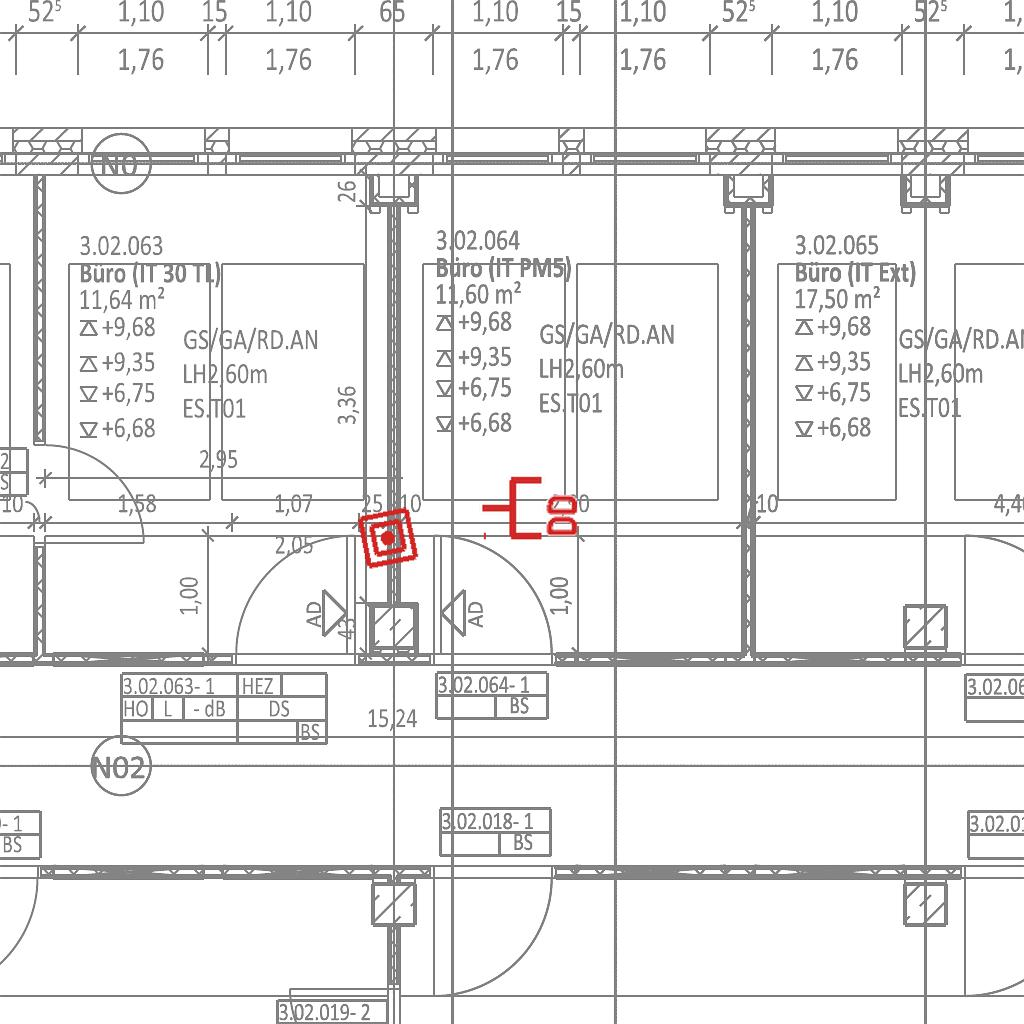Datenanschluss_zweifach: (479, 472, 582, 541)
NAM-Nichtautomatischer_Melder: (355, 505, 421, 571)
